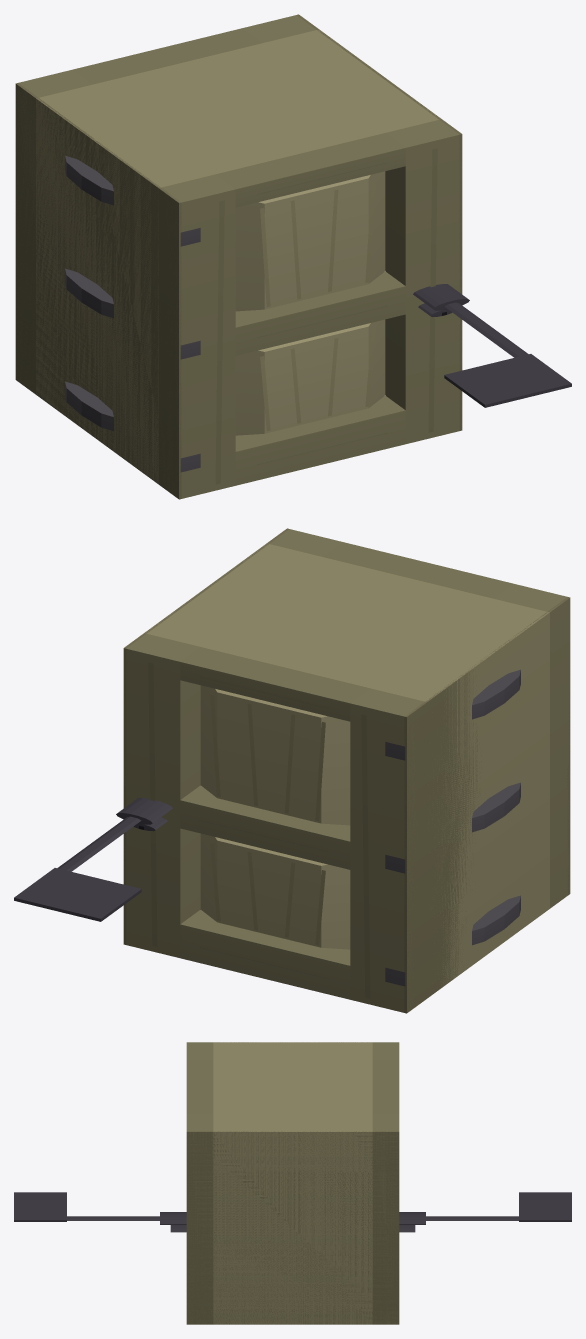
Rendered from door_leaf_narrow.glb.
3 views of the same model, one above another, from view 1: azimuth 30°, elevation 25°; view 2: azimuth 150°, elevation 25°; view 3: azimuth 270°, elevation 25° (orthographic). The views are drawn at different scales.
Parts seen in each view (by area): view 1: door_leaf_narrow; view 2: door_leaf_narrow; view 3: door_leaf_narrow.
Boxes of the visible parts, x1,y1,x2,y2 form: door_leaf_narrow: (15,14,571,499); door_leaf_narrow: (14,528,570,1013); door_leaf_narrow: (14,1042,571,1324).
Size of the model in its own units: 1.06 by 1 by 2.62.
